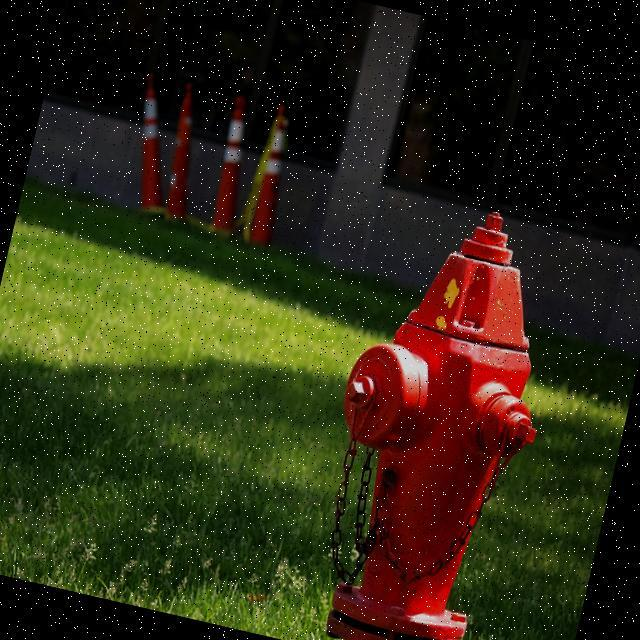fire_hydrant: (292, 178, 585, 640)
